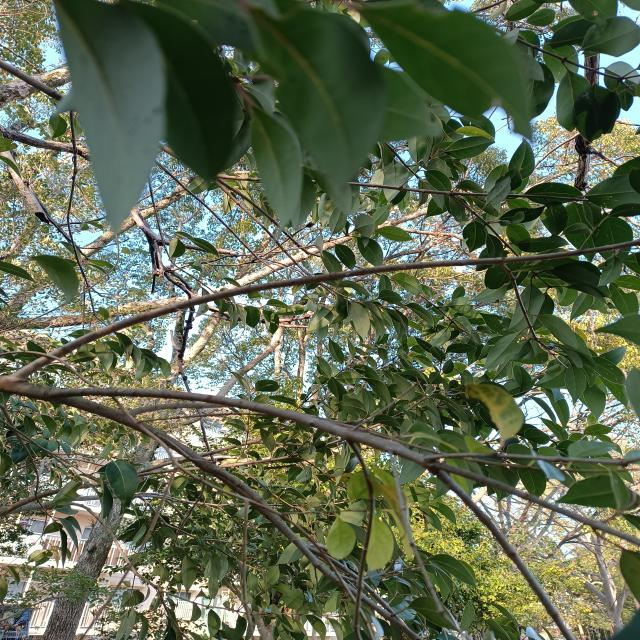Twig: (0, 375, 421, 639), (53, 388, 640, 544), (13, 238, 638, 374), (433, 471, 575, 640), (433, 453, 631, 465)
